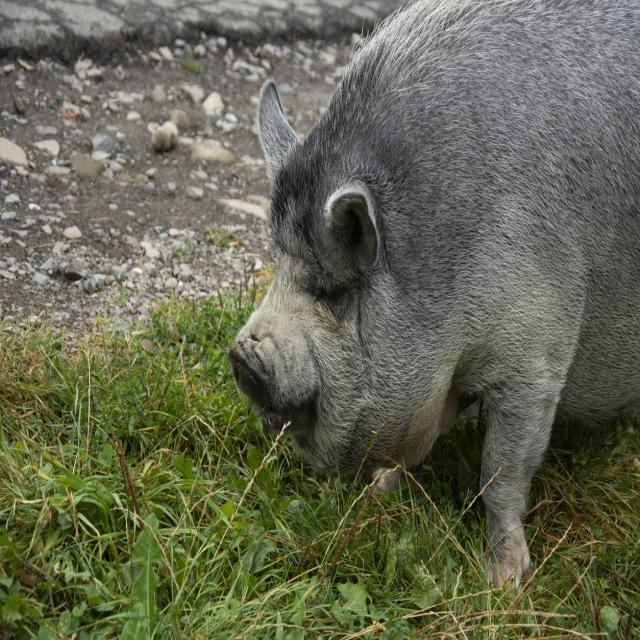Pig: (226, 0, 640, 580)
